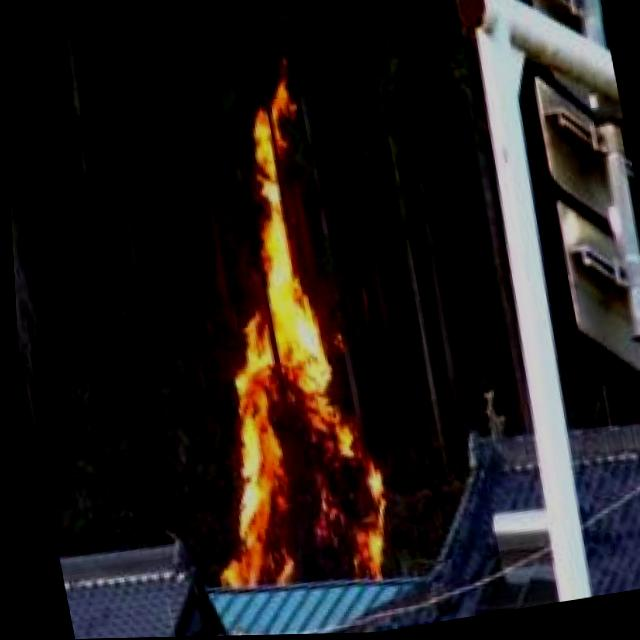helmet: (139, 79, 402, 605)
